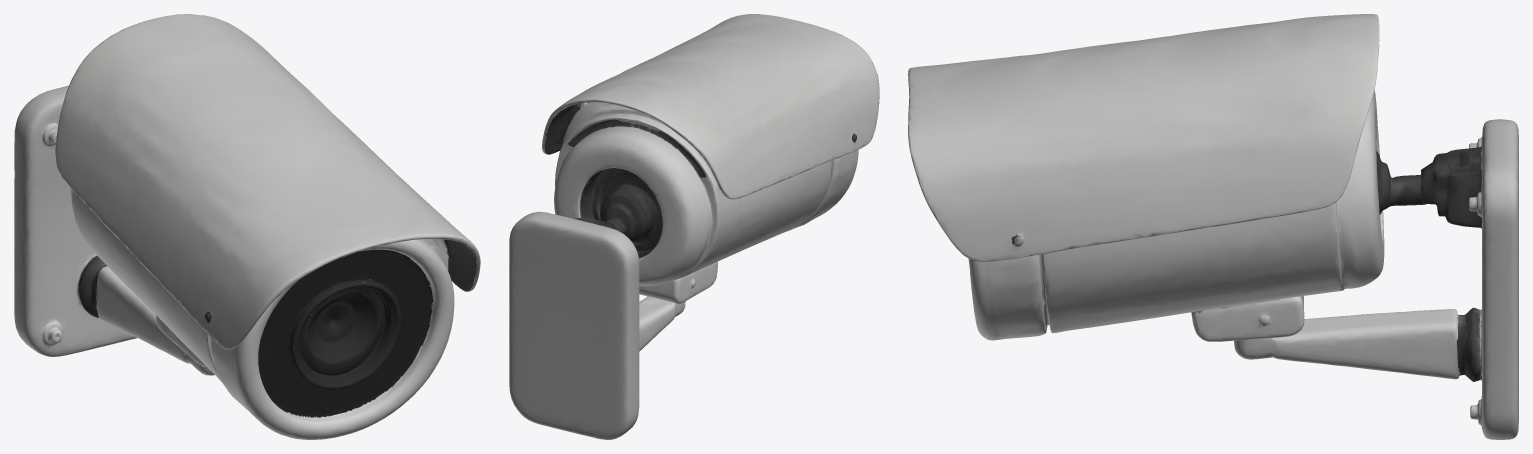
File: camara.glb
3 views of the same model, side by side, from view 1: azimuth 30°, elevation 25°; view 2: azimuth 150°, elevation 25°; view 3: azimuth 270°, elevation 25° (orthographic). The views are drawn at different scales.
Bounding box in the file's own units: 0.4831 × 0.6951 × 0.9994.
1 material, 1 textured.
